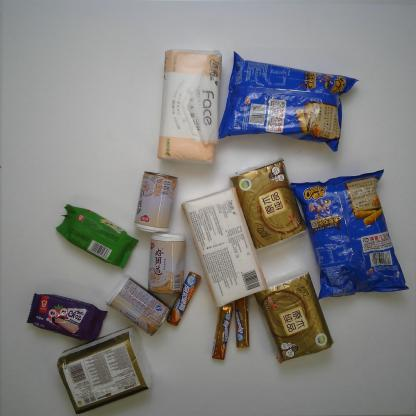Candy: (166, 271, 202, 327), (210, 302, 234, 360), (234, 295, 250, 348)
Canned Food: (104, 274, 172, 338), (132, 170, 180, 235), (146, 232, 188, 294)
Dessert: (54, 203, 140, 270), (25, 291, 109, 342)
Puffed Food: (289, 169, 410, 300), (217, 50, 360, 153)
Tissue: (181, 186, 268, 307), (56, 325, 150, 415), (253, 267, 335, 364), (156, 46, 223, 164), (228, 157, 308, 250)
